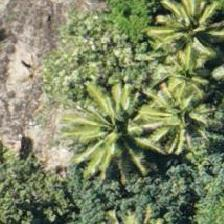coconut_tree: (99, 61, 189, 151), (59, 91, 149, 181), (134, 0, 223, 64)
